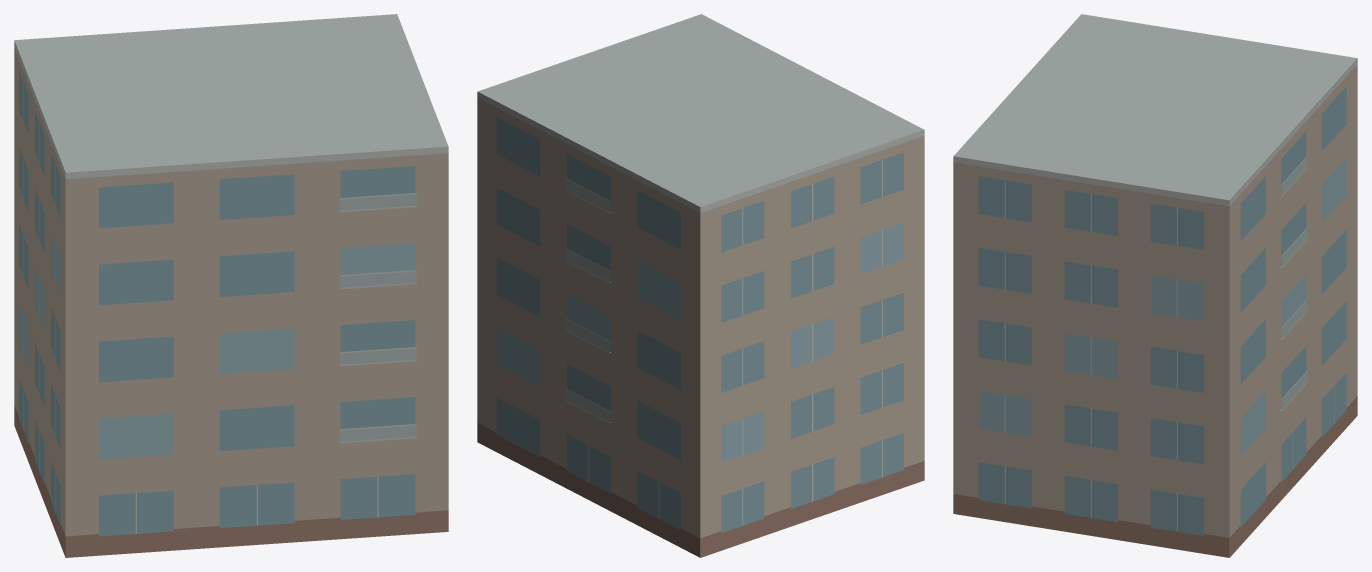
File: survey-upis-32887630.glb
The picture shows the model from 3 angles, left to right: view 1: azimuth 30°, elevation 25°; view 2: azimuth 150°, elevation 25°; view 3: azimuth 270°, elevation 25°; orthographic projection. The views are drawn at different scales.
Visible parts, largest first — view 1: survey-upis-32887630.tmp; view 2: survey-upis-32887630.tmp; view 3: survey-upis-32887630.tmp.
Boxes of the visible parts, <box> form: survey-upis-32887630.tmp: <box>14,14,448,557</box>; survey-upis-32887630.tmp: <box>477,14,924,557</box>; survey-upis-32887630.tmp: <box>953,14,1357,557</box>.
Bounding box in the file's own units: 16.1 × 14.4 × 14.76.
